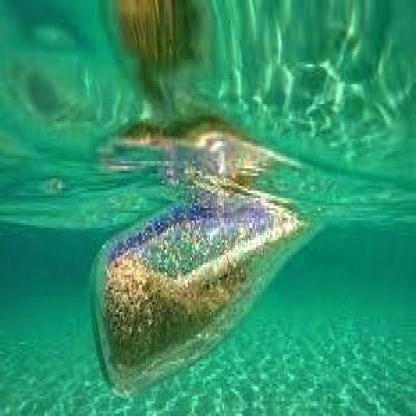gbottle: (91, 188, 331, 399)
